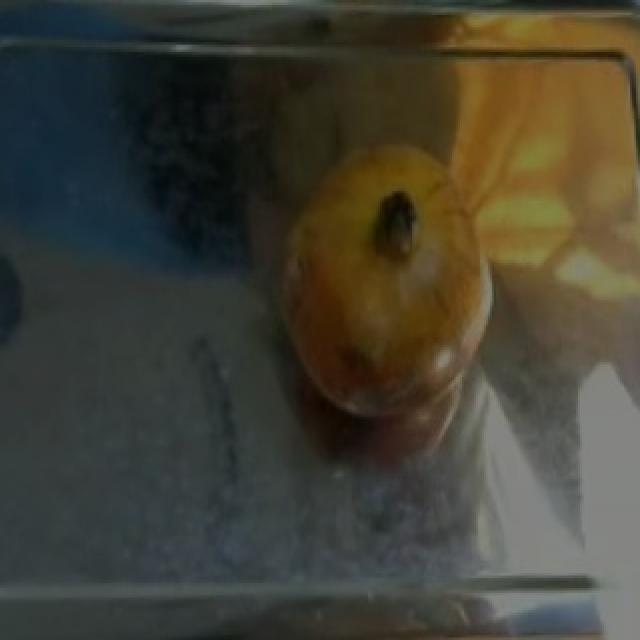fruit: (264, 184, 510, 439)
